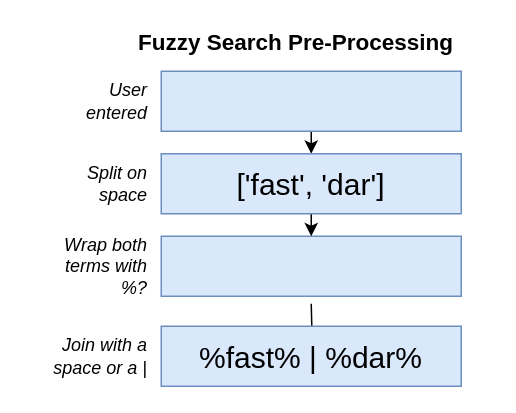
Image size: 516x413. Some labels were removed from this diagram. The shapes that lost their labels are listed below. From the top down, each one's box as (x1, y1, x2, y2) in pixels, then its label:
(160, 70, 461, 131): fast dar
(160, 235, 461, 296): ['%fast%', '%dar%']
